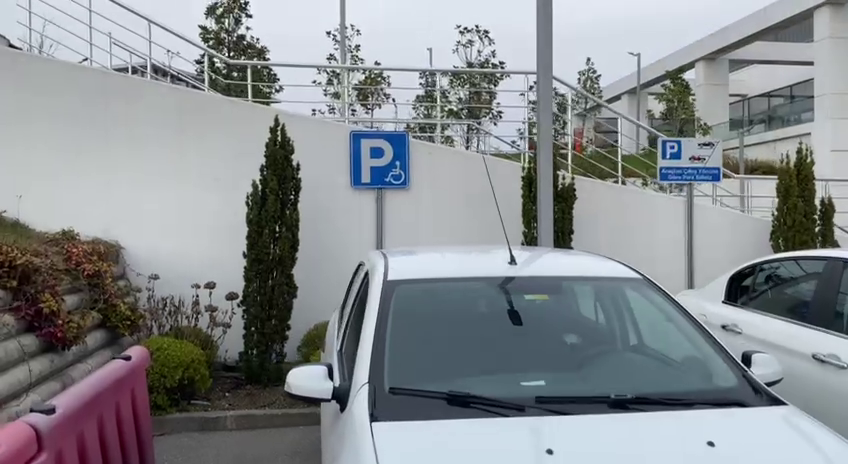parking: (349, 130, 412, 190), (660, 139, 684, 161)
